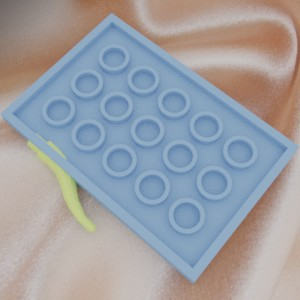lego: (0, 13, 300, 283), (27, 133, 95, 232)
